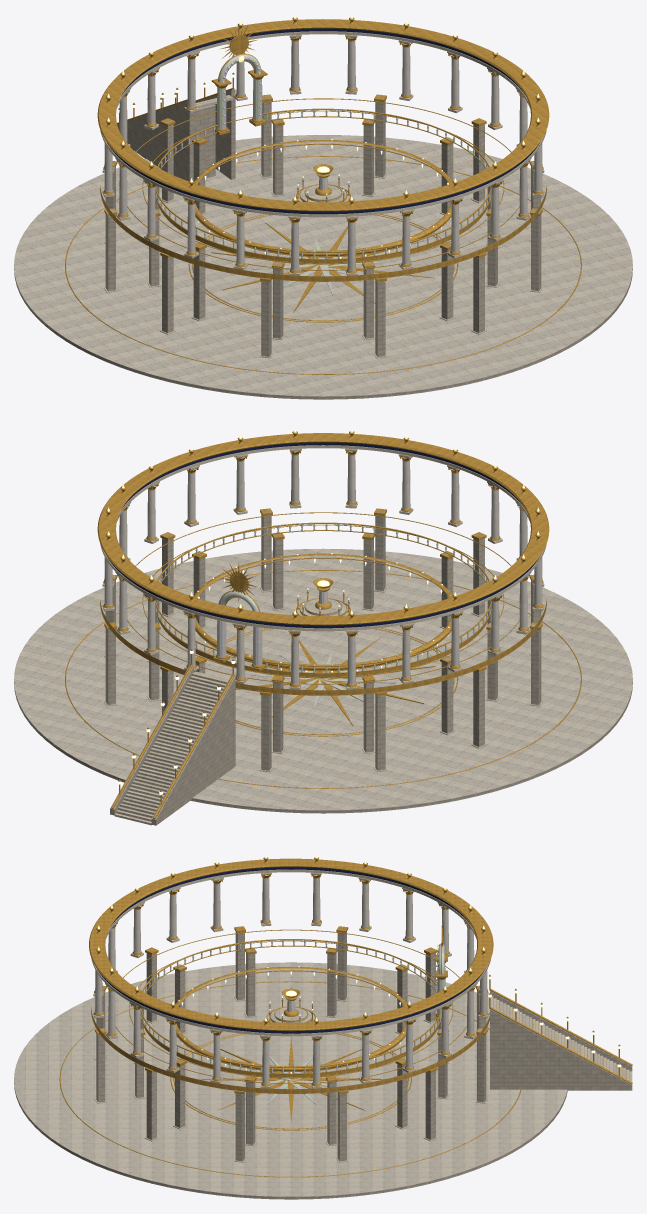
Rendered from lb_temple.glb.
3 views of the same model, one above another, from view 1: azimuth 30°, elevation 25°; view 2: azimuth 150°, elevation 25°; view 3: azimuth 270°, elevation 25° (orthographic). The views are drawn at different scales.
Parts seen in each view (by area): view 1: lb_temple; view 2: lb_temple; view 3: lb_temple.
Part boxes in pixels (bbox=[...]): lb_temple: bbox=[14, 15, 632, 399]; lb_temple: bbox=[14, 428, 632, 825]; lb_temple: bbox=[14, 855, 632, 1199].
Size of the model in its own units: 72 by 23.44 by 80.36.
Materials: 10 (7 with a texture image).
